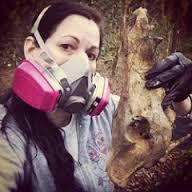OK: (48, 34, 101, 95)
